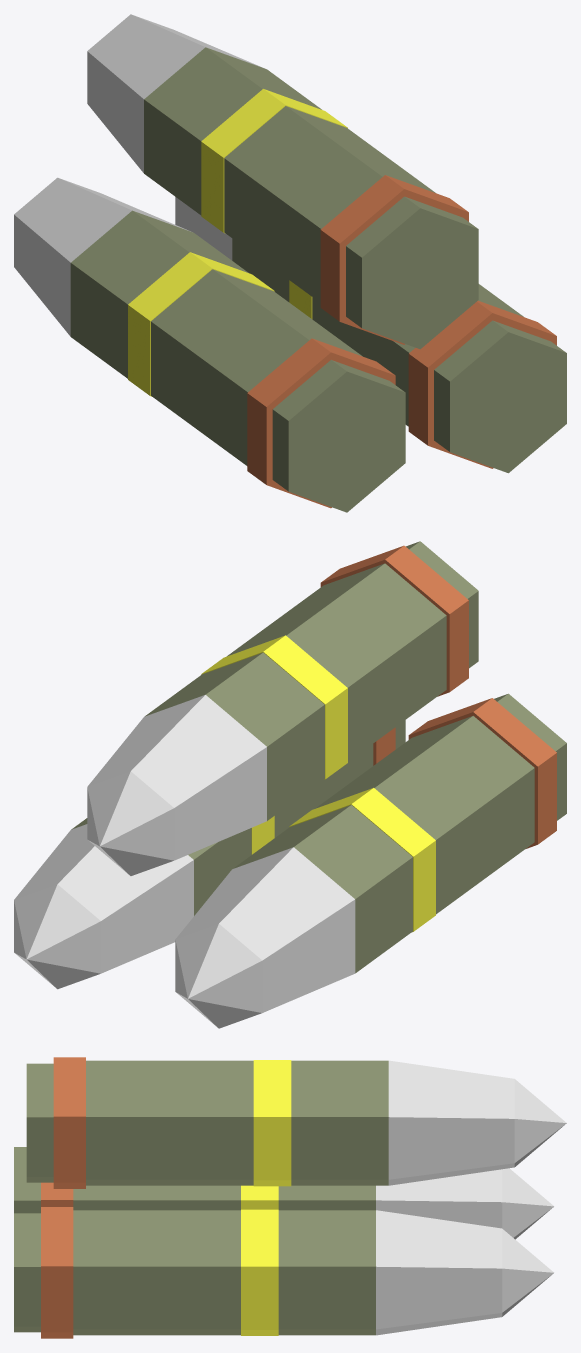
File: ce_ammo_artillery_he_b.obj
The picture shows the model from 3 angles, top to bottom: view 1: azimuth 30°, elevation 25°; view 2: azimuth 150°, elevation 25°; view 3: azimuth 270°, elevation 25°; orthographic projection. The views are drawn at different scales.
Visible parts, largest first — view 1: ce_ammo_artillery_he_b_16, ce_ammo_artillery_he_b_2, ce_ammo_artillery_he_b_0, ce_ammo_artillery_he_b_7, ce_ammo_artillery_he_b_14, ce_ammo_artillery_he_b_18, ce_ammo_artillery_he_b_4, ce_ammo_artillery_he_b_5, ce_ammo_artillery_he_b_19, ce_ammo_artillery_he_b_1, ce_ammo_artillery_he_b_15, ce_ammo_artillery_he_b_8 (+5 smaller); view 2: ce_ammo_artillery_he_b_16, ce_ammo_artillery_he_b_2, ce_ammo_artillery_he_b_5, ce_ammo_artillery_he_b_19, ce_ammo_artillery_he_b_12, ce_ammo_artillery_he_b_18, ce_ammo_artillery_he_b_4, ce_ammo_artillery_he_b_6, ce_ammo_artillery_he_b_20, ce_ammo_artillery_he_b_13, ce_ammo_artillery_he_b_1, ce_ammo_artillery_he_b_15 (+6 smaller); view 3: ce_ammo_artillery_he_b_9, ce_ammo_artillery_he_b_16, ce_ammo_artillery_he_b_19, ce_ammo_artillery_he_b_12, ce_ammo_artillery_he_b_18, ce_ammo_artillery_he_b_11, ce_ammo_artillery_he_b_5, ce_ammo_artillery_he_b_17, ce_ammo_artillery_he_b_10, ce_ammo_artillery_he_b_8, ce_ammo_artillery_he_b_15, ce_ammo_artillery_he_b_2 (+9 smaller).
Part boxes in pixels (x1,y1,x2,y2): ce_ammo_artillery_he_b_16: (224, 106, 435, 302); ce_ammo_artillery_he_b_2: (151, 269, 362, 465); ce_ammo_artillery_he_b_0: (272, 360, 405, 512); ce_ammo_artillery_he_b_7: (434, 320, 566, 473); ce_ammo_artillery_he_b_14: (346, 196, 478, 349); ce_ammo_artillery_he_b_18: (144, 47, 321, 215); ce_ammo_artillery_he_b_4: (70, 210, 248, 378); ce_ammo_artillery_he_b_5: (14, 177, 190, 336); ce_ammo_artillery_he_b_19: (87, 14, 264, 172); ce_ammo_artillery_he_b_1: (247, 338, 395, 508); ce_ammo_artillery_he_b_15: (320, 175, 468, 344); ce_ammo_artillery_he_b_8: (408, 300, 556, 468); ce_ammo_artillery_he_b_16: (227, 563, 446, 761); ce_ammo_artillery_he_b_2: (315, 716, 534, 914); ce_ammo_artillery_he_b_5: (176, 847, 355, 1012); ce_ammo_artillery_he_b_19: (88, 695, 266, 860); ce_ammo_artillery_he_b_12: (14, 824, 193, 973); ce_ammo_artillery_he_b_18: (145, 652, 324, 820); ce_ammo_artillery_he_b_4: (233, 805, 412, 973); ce_ammo_artillery_he_b_6: (175, 923, 262, 1028); ce_ammo_artillery_he_b_20: (87, 771, 174, 875); ce_ammo_artillery_he_b_13: (14, 884, 100, 989); ce_ammo_artillery_he_b_1: (408, 698, 556, 848); ce_ammo_artillery_he_b_15: (320, 545, 468, 696); ce_ammo_artillery_he_b_9: (73, 1210, 240, 1335); ce_ammo_artillery_he_b_16: (86, 1060, 253, 1185); ce_ammo_artillery_he_b_19: (388, 1060, 514, 1185); ce_ammo_artillery_he_b_12: (376, 1210, 502, 1335); ce_ammo_artillery_he_b_18: (291, 1060, 388, 1185); ce_ammo_artillery_he_b_11: (278, 1210, 375, 1335); ce_ammo_artillery_he_b_5: (376, 1169, 502, 1228); ce_ammo_artillery_he_b_17: (253, 1060, 291, 1186); ce_ammo_artillery_he_b_10: (241, 1209, 278, 1335); ce_ammo_artillery_he_b_8: (41, 1207, 73, 1338); ce_ammo_artillery_he_b_15: (53, 1057, 85, 1188); ce_ammo_artillery_he_b_2: (73, 1185, 240, 1210).
Bounding box in the file's own units: 0.45 × 0.4355 × 0.88.
